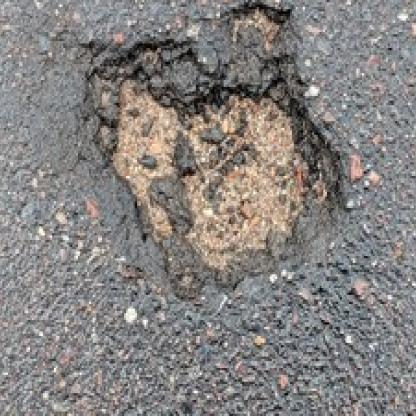pothole: (78, 0, 347, 302)
